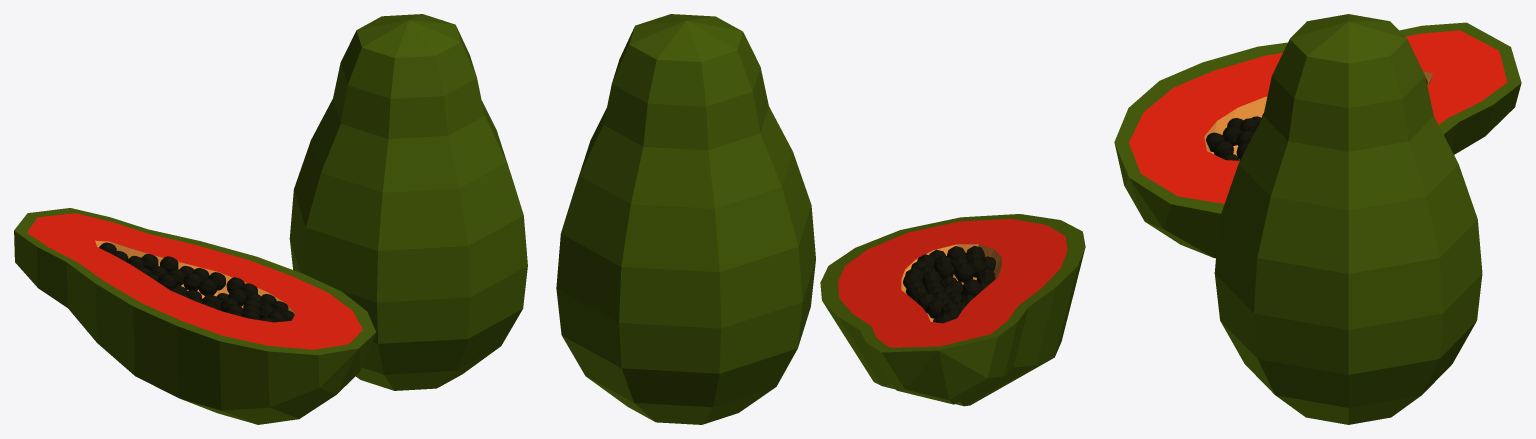
The model's file is papaya.obj.
The picture shows the model from 3 angles, left to right: view 1: azimuth 30°, elevation 25°; view 2: azimuth 150°, elevation 25°; view 3: azimuth 270°, elevation 25°; orthographic projection. The views are drawn at different scales.
Size of the model in its own units: 3.44 by 2.65 by 2.5.
